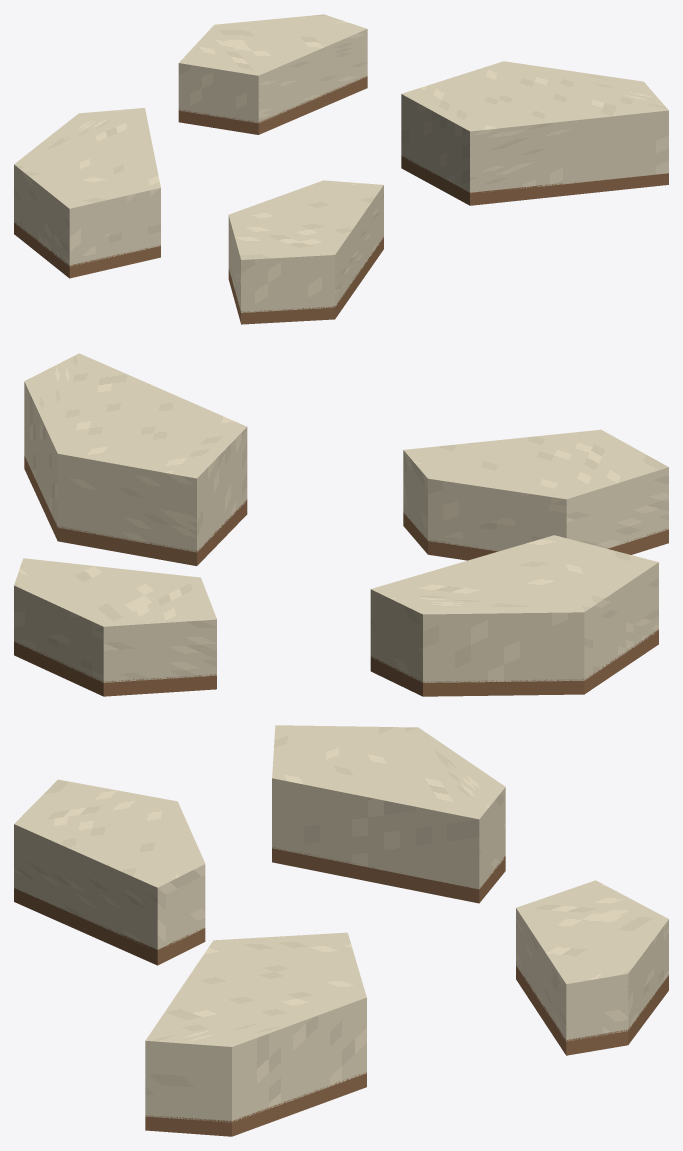
Rendered from coconut_flesh.glb.
3 renders of one model, top to bottom at view 1: azimuth 30°, elevation 25°; view 2: azimuth 150°, elevation 25°; view 3: azimuth 270°, elevation 25°, orthographic. The views are drawn at different scales.
Parts seen in each view (by area): view 1: block_curved ivory coconut piece (×4), block_thin brown coconut skin (×4); view 2: block_curved ivory coconut piece (×4), block_thin brown coconut skin (×4); view 3: block_curved ivory coconut piece (×4), block_thin brown coconut skin (×4).
Part boxes in pixels (x1,y1,x2,y2): block_curved ivory coconut piece (×4): (14,14,668,312); block_thin brown coconut skin (×4): (14,75,668,324); block_curved ivory coconut piece (×4): (14,353,668,682); block_thin brown coconut skin (×4): (14,456,668,696); block_curved ivory coconut piece (×4): (14,725,668,1122); block_thin brown coconut skin (×4): (14,847,668,1136).
Bounding box in the file's own units: 0.112 × 0.0143 × 0.0947.
Materials: 1 (1 with a texture image).
